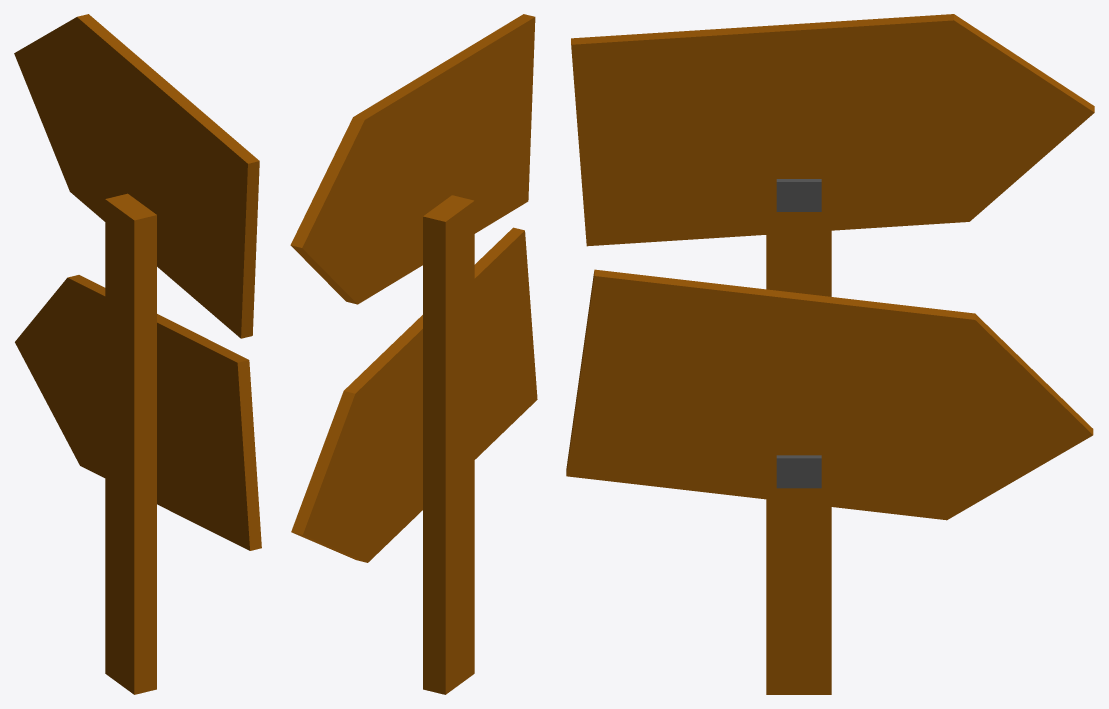
File: Sign3.fbx
3 renders of one model, left to right at view 1: azimuth 30°, elevation 25°; view 2: azimuth 150°, elevation 25°; view 3: azimuth 270°, elevation 25°, orthographic. The views are drawn at different scales.
Parts seen in each view (by area): view 1: Plane.005; view 2: Plane.005; view 3: Plane.005.
Part boxes in pixels (bbox=[...]): Plane.005: bbox=[14, 14, 261, 694]; Plane.005: bbox=[290, 14, 537, 694]; Plane.005: bbox=[566, 14, 1094, 694].
Bounding box in the file's own units: 49.11 × 662 × 464.
